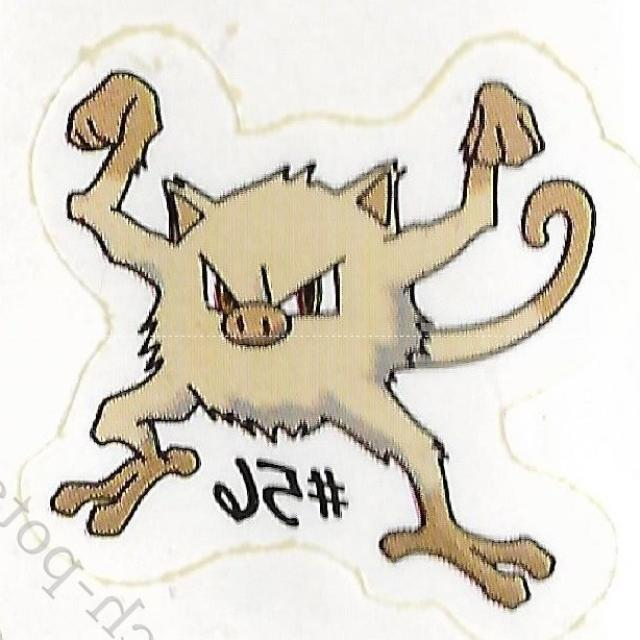Mankey: (64, 82, 535, 532)
